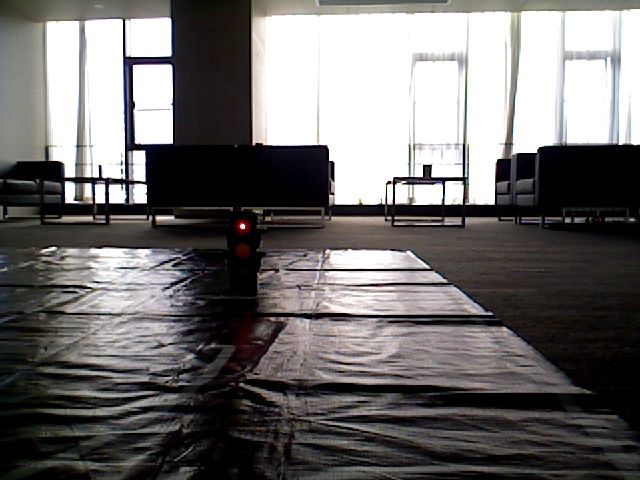red: (225, 213, 256, 279)
